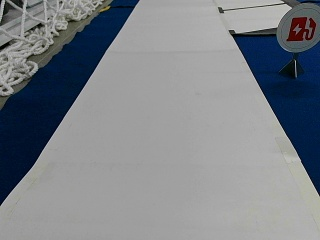battery: (276, 2, 319, 52)
